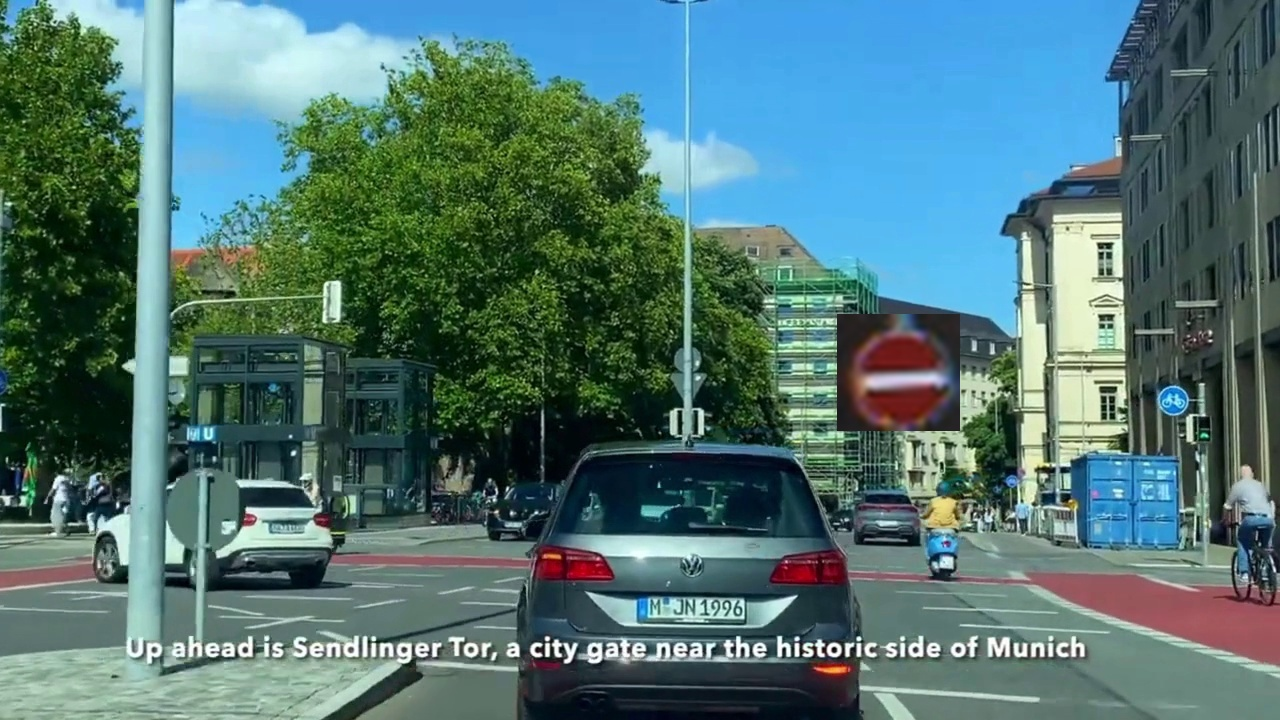No entry: (837, 314, 960, 431)
